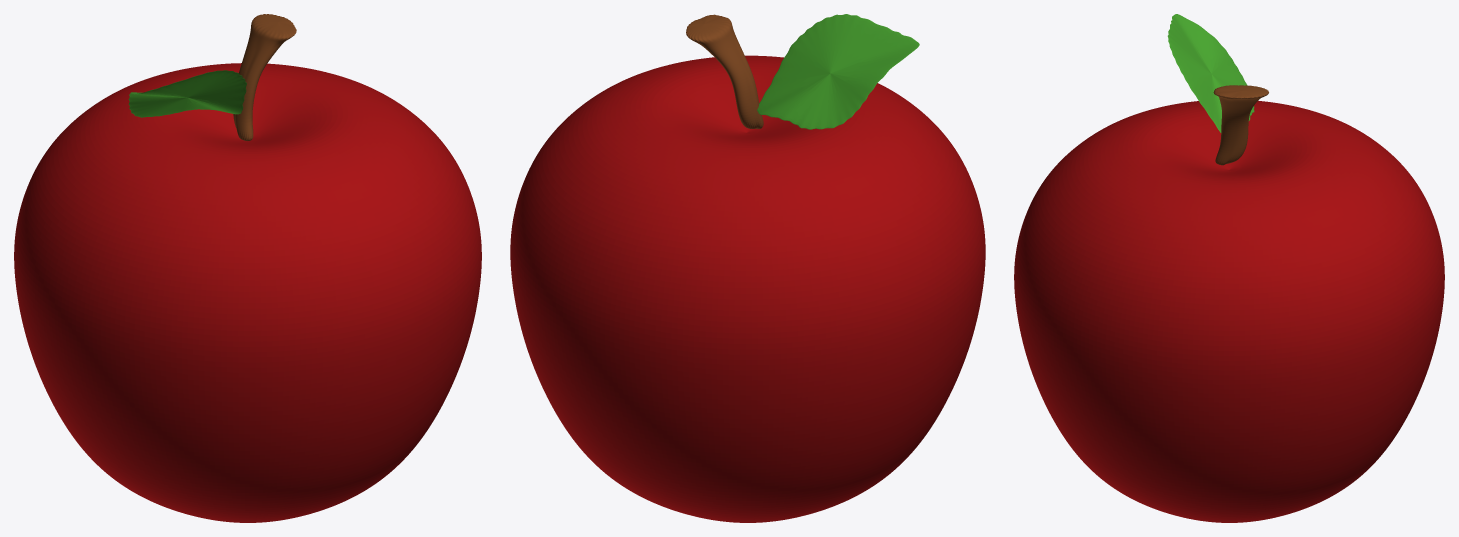
The model's file is manzana.fbx.
3 views of the same model, side by side, from view 1: azimuth 30°, elevation 25°; view 2: azimuth 150°, elevation 25°; view 3: azimuth 270°, elevation 25° (orthographic). The views are drawn at different scales.
Visible parts, largest first — view 1: MANZANA, HOJA, TALLO1; view 2: MANZANA, HOJA, TALLO1; view 3: MANZANA, HOJA, TALLO1.
Boxes of the visible parts, x1,y1,x2,y2 form: MANZANA: [14, 63, 481, 522]; HOJA: [128, 70, 246, 117]; TALLO1: [233, 14, 296, 140]; MANZANA: [510, 55, 985, 522]; HOJA: [757, 14, 919, 129]; TALLO1: [686, 14, 763, 128]; MANZANA: [1014, 100, 1444, 522]; HOJA: [1167, 14, 1254, 132]; TALLO1: [1213, 85, 1268, 165].
Size of the model in its own units: 197 by 216 by 197.
